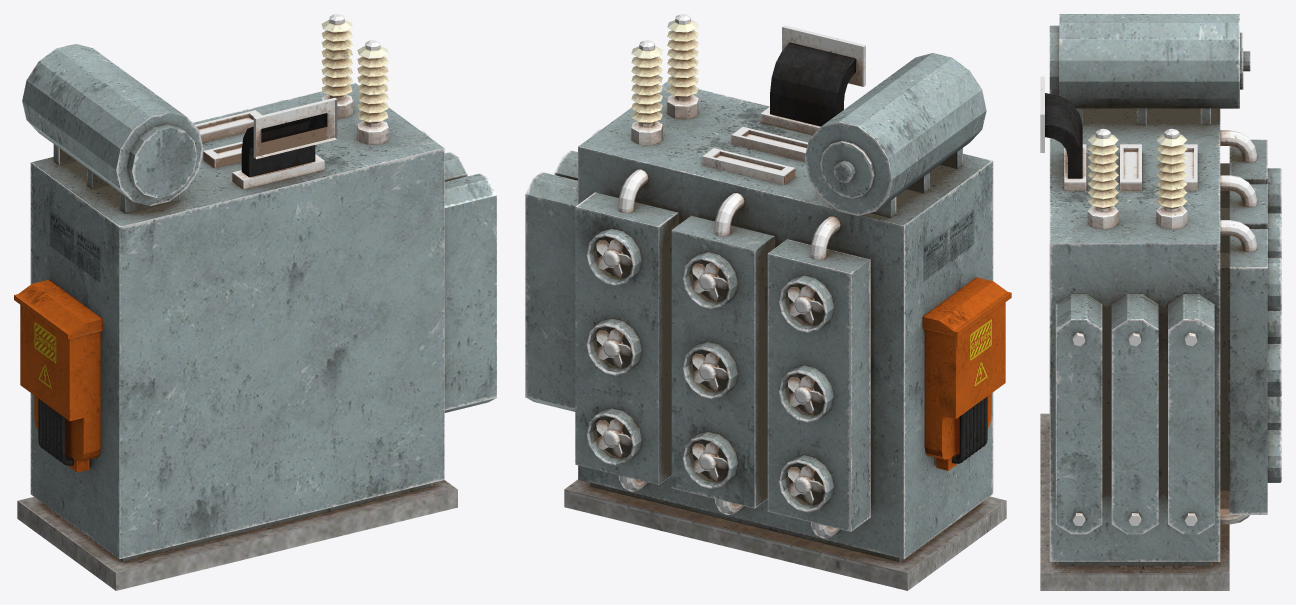
The model's file is P_ElectricalTransformer.obj.
The picture shows the model from 3 angles, left to right: view 1: azimuth 30°, elevation 25°; view 2: azimuth 150°, elevation 25°; view 3: azimuth 270°, elevation 25°; orthographic projection. The views are drawn at different scales.
Bounding box in the file's own units: 2.07 × 2.14 × 1.07.
10 materials, 10 textured.
